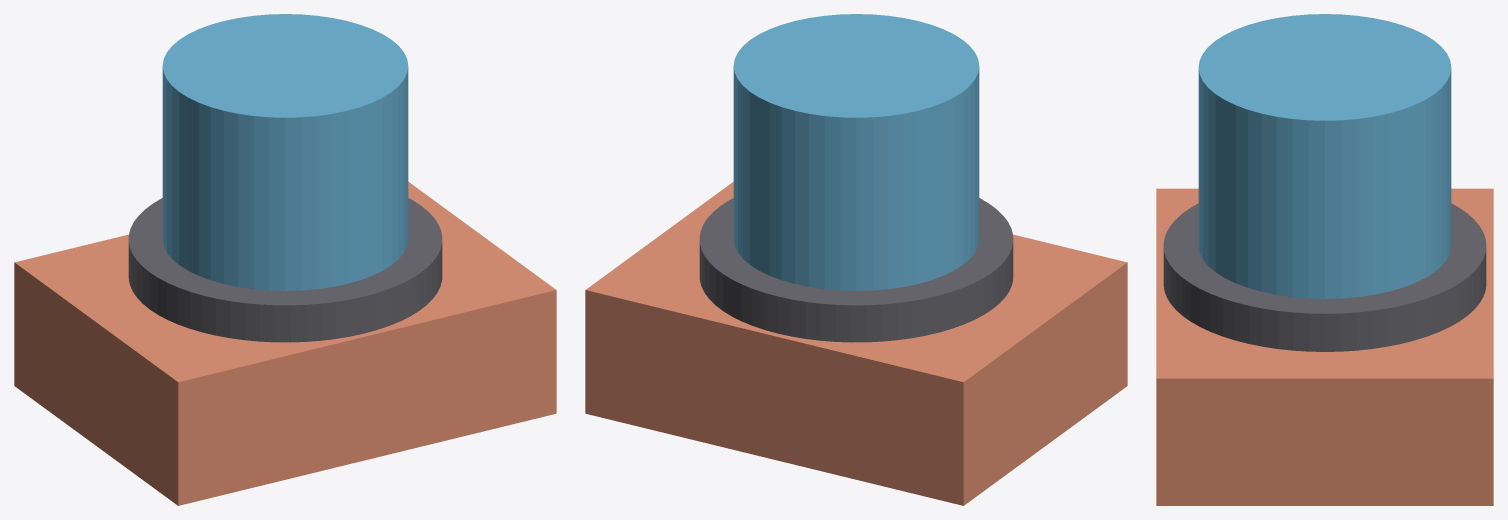
File: background.glb
3 views of the same model, side by side, from view 1: azimuth 30°, elevation 25°; view 2: azimuth 150°, elevation 25°; view 3: azimuth 270°, elevation 25° (orthographic). The views are drawn at different scales.
Visible parts, largest first — view 1: Rectangle, Cylinder, Circle; view 2: Rectangle, Cylinder, Circle; view 3: Cylinder, Rectangle, Circle.
Part boxes in pixels (x1,y1,x2,y2): Rectangle: (14,182,556,505); Cylinder: (162,14,408,290); Circle: (128,198,442,342); Rectangle: (585,182,1127,505); Cylinder: (733,14,979,290); Circle: (699,198,1013,342); Cylinder: (1198,14,1451,298); Rectangle: (1156,188,1493,505); Circle: (1163,203,1486,351).
Size of what is drawn, in the model's own units: 3.2 by 2.7 by 2.4.
